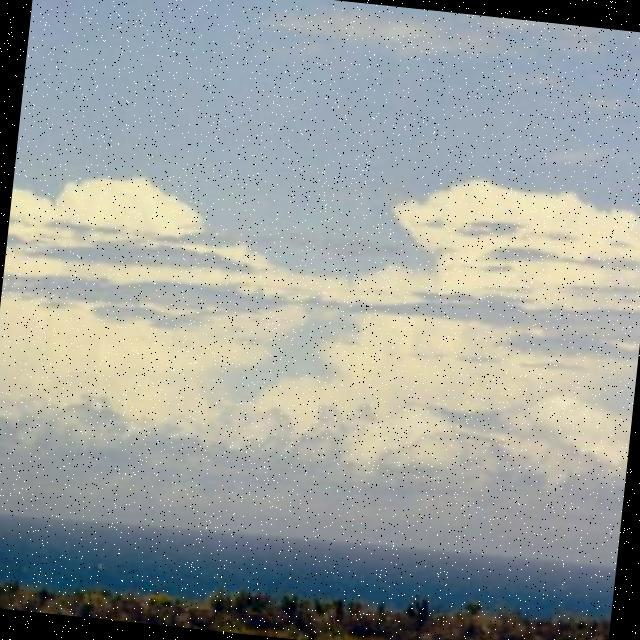Cb: (1, 76, 640, 546)
